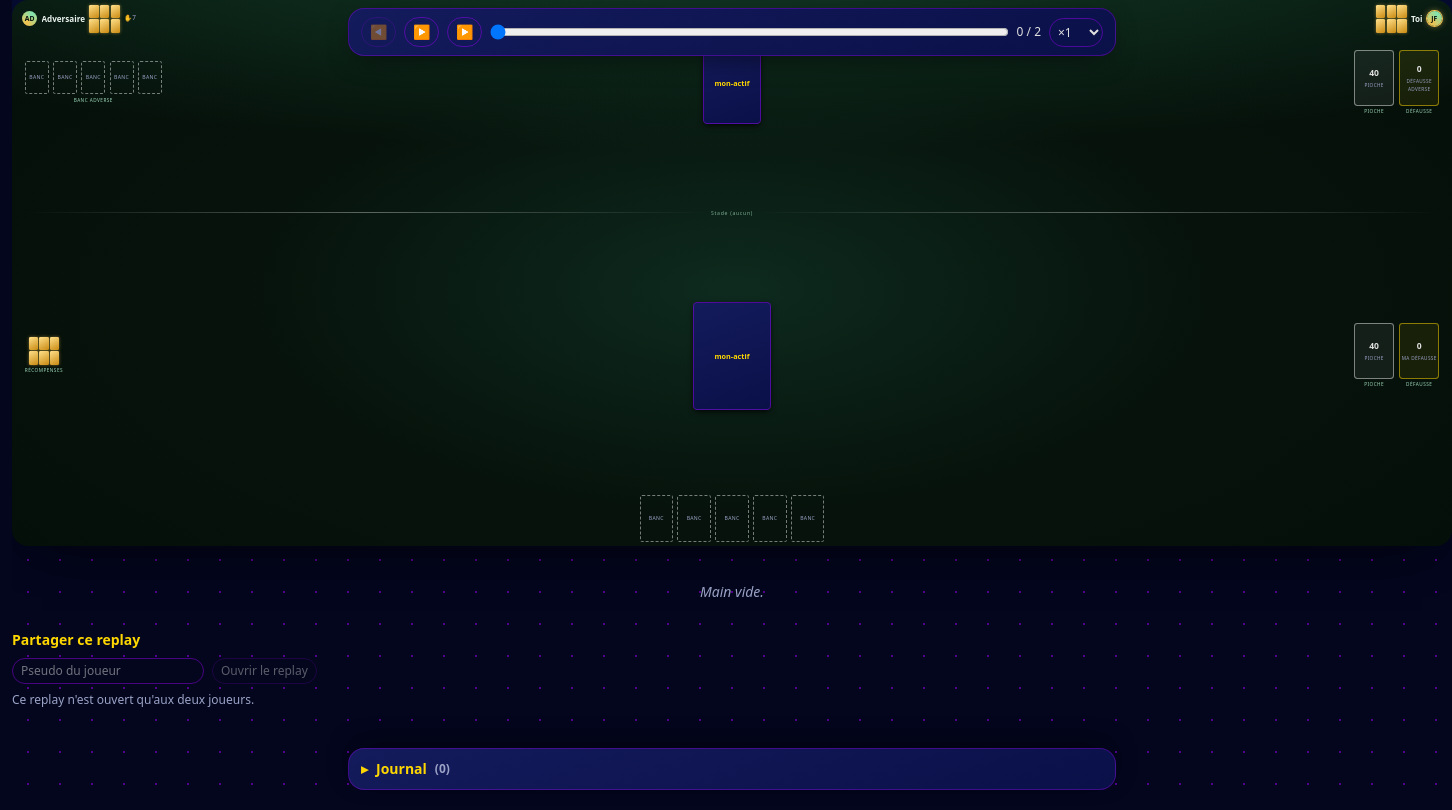
Test case: ReplayView › ne sort jamais des rangs chargés : les boutons de bout sont désactivés
Expected: the text with test id "replay-position" reads "0 / 2", left=1016, top=24, right=1041, bottom=40
Expected: the button named "Coup précédent" is disabled, left=361, top=17, right=396, bottom=47
Click the button named "Coup suivant": point(464, 32) left=447, top=17, right=482, bottom=47
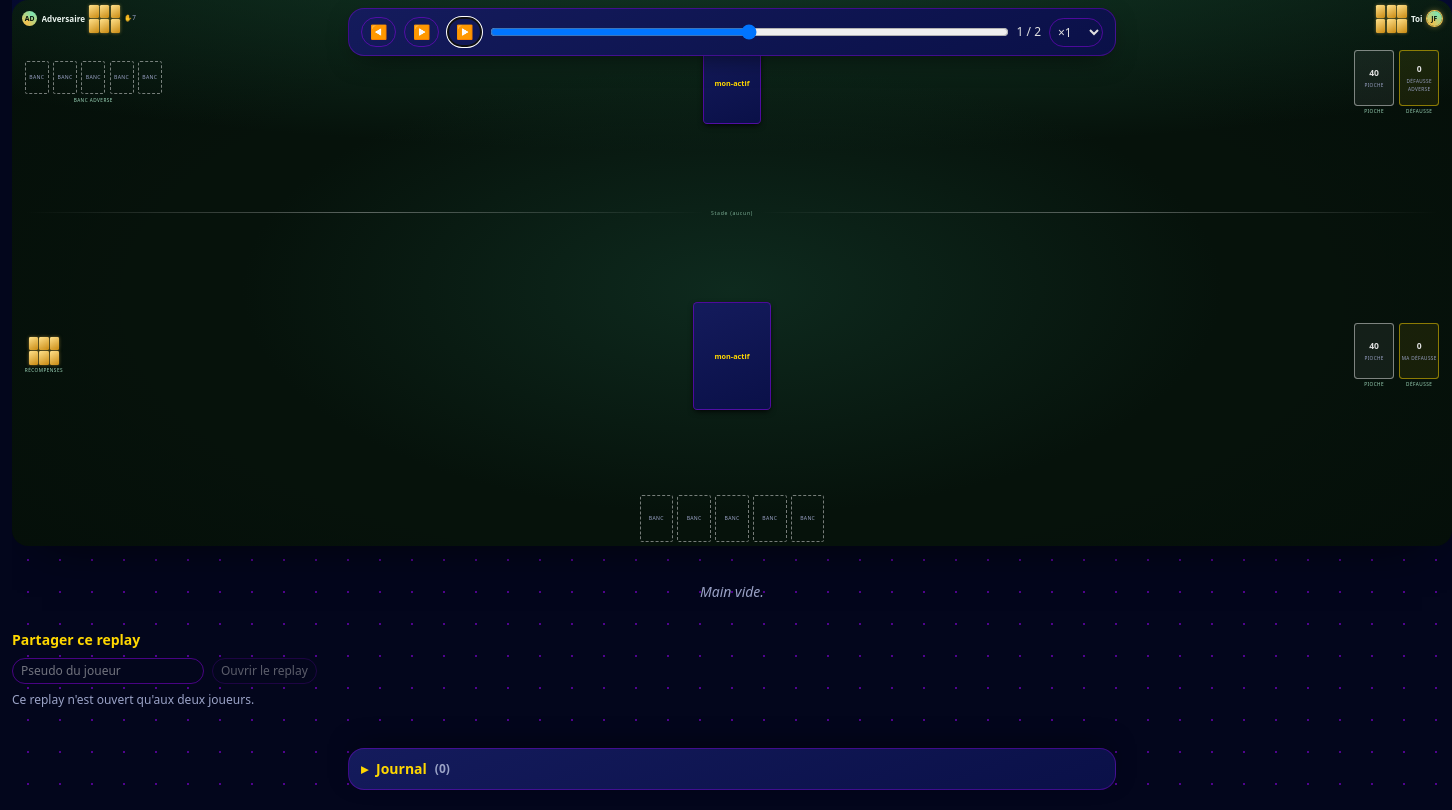
Click the button named "Coup suivant": point(464, 32) left=447, top=17, right=482, bottom=47
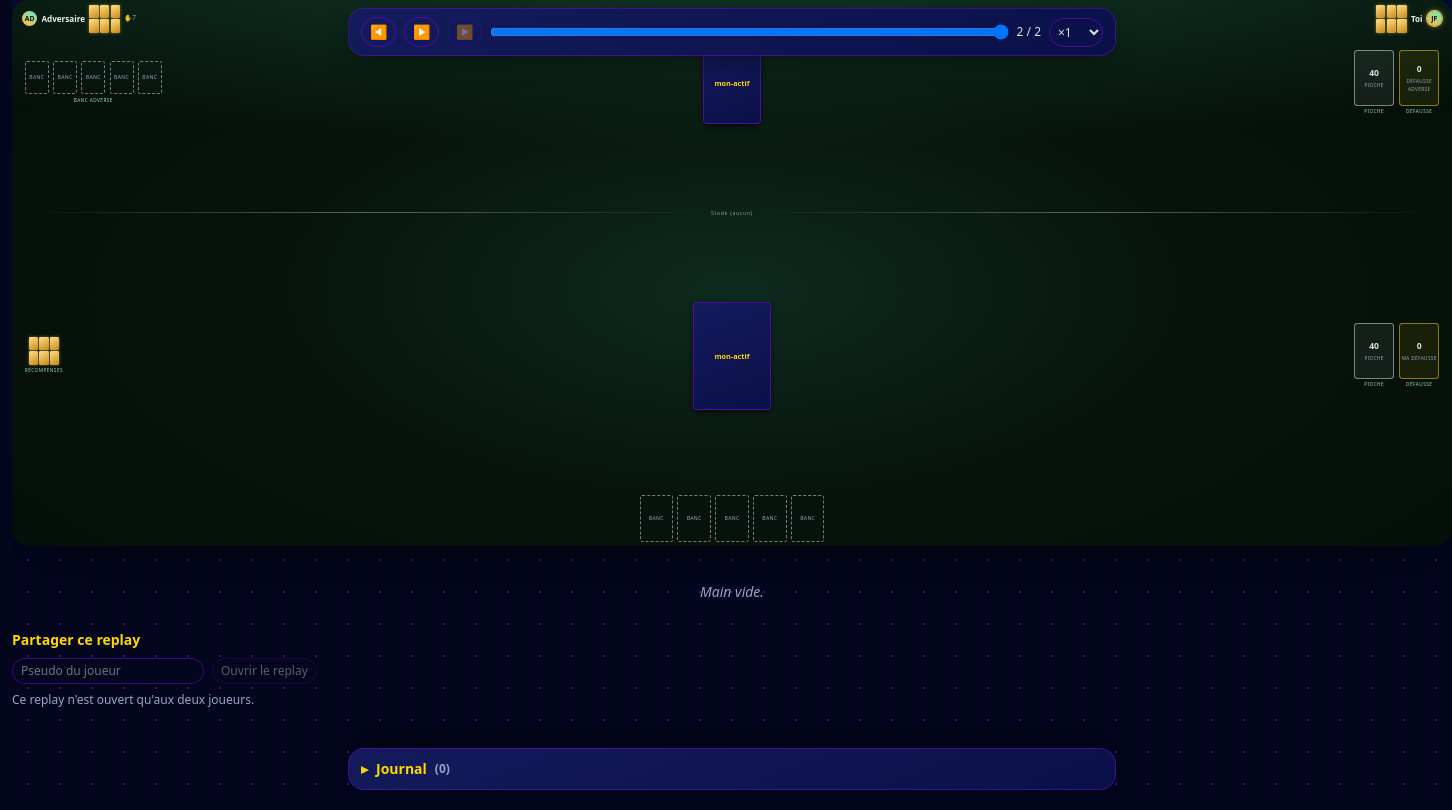
Expected: the text with test id "replay-position" reads "2 / 2", left=1016, top=24, right=1041, bottom=40
Expected: the button named "Coup suivant" is disabled, left=447, top=17, right=482, bottom=47
